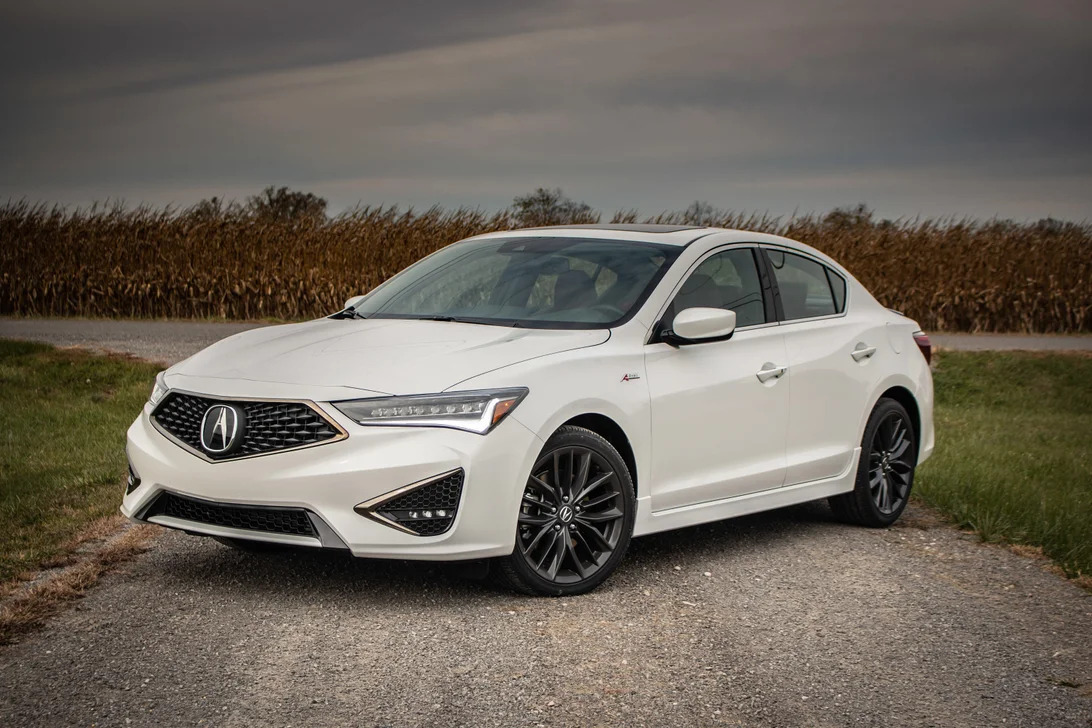Fog Lamp & Scope: (381, 483, 465, 534)
Front: (109, 330, 618, 560)
Front Bumper: (114, 463, 523, 554)
Grill: (159, 403, 333, 454)
Headlight: (341, 392, 526, 432)
